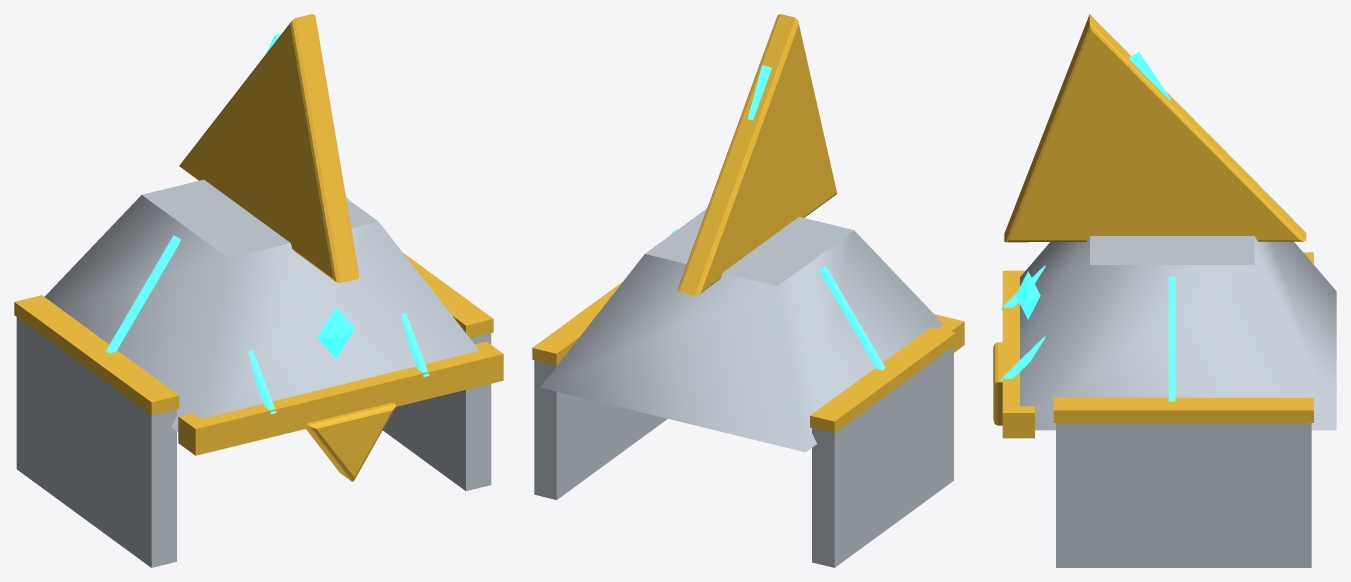
Rendered from hat_eqsu4.glb.
3 views of the same model, side by side, from view 1: azimuth 30°, elevation 25°; view 2: azimuth 150°, elevation 25°; view 3: azimuth 270°, elevation 25° (orthographic). The views are drawn at different scales.
Bounding box in the file's own units: 2.33 × 3.24 × 2.14.
